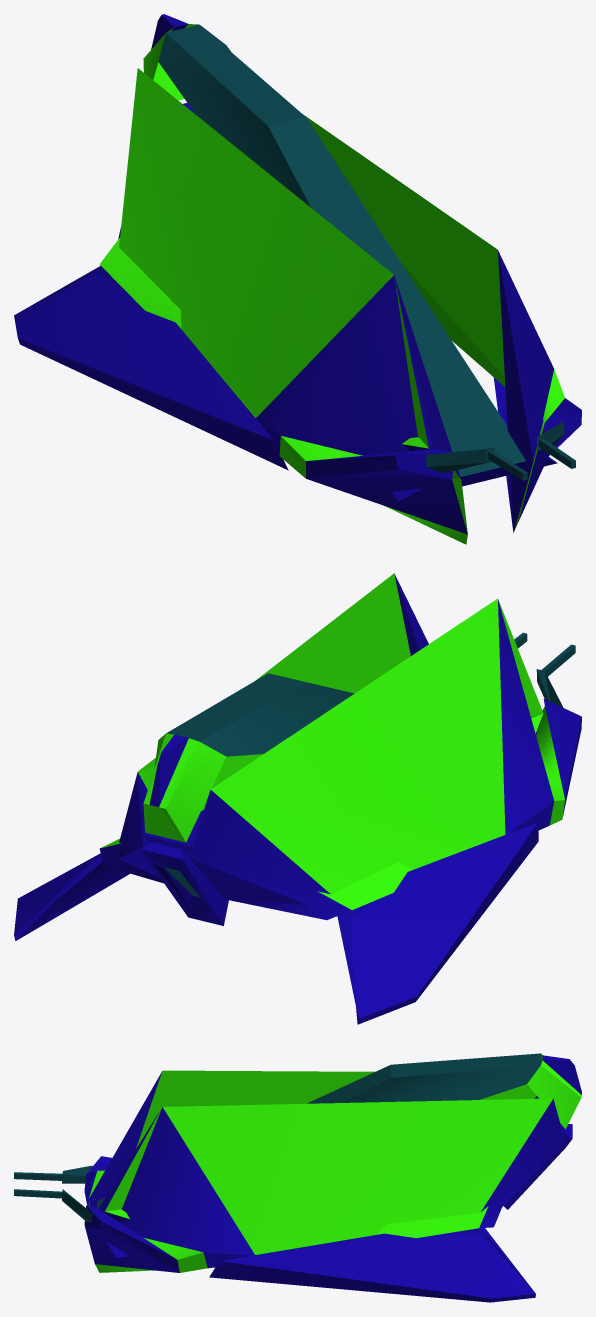
File: ship2.gltf.glb
The picture shows the model from 3 angles, top to bottom: view 1: azimuth 30°, elevation 25°; view 2: azimuth 150°, elevation 25°; view 3: azimuth 270°, elevation 25°; orthographic projection. The views are drawn at different scales.
Visible parts, largest first — view 1: node-0; view 2: node-0; view 3: node-0.
Part boxes in pixels (left/top/right/bottom): node-0: left=14, top=14, right=581, bottom=544; node-0: left=14, top=573, right=581, bottom=1024; node-0: left=14, top=1053, right=581, bottom=1302.
Bounding box in the file's own units: 494 × 340 × 846.
